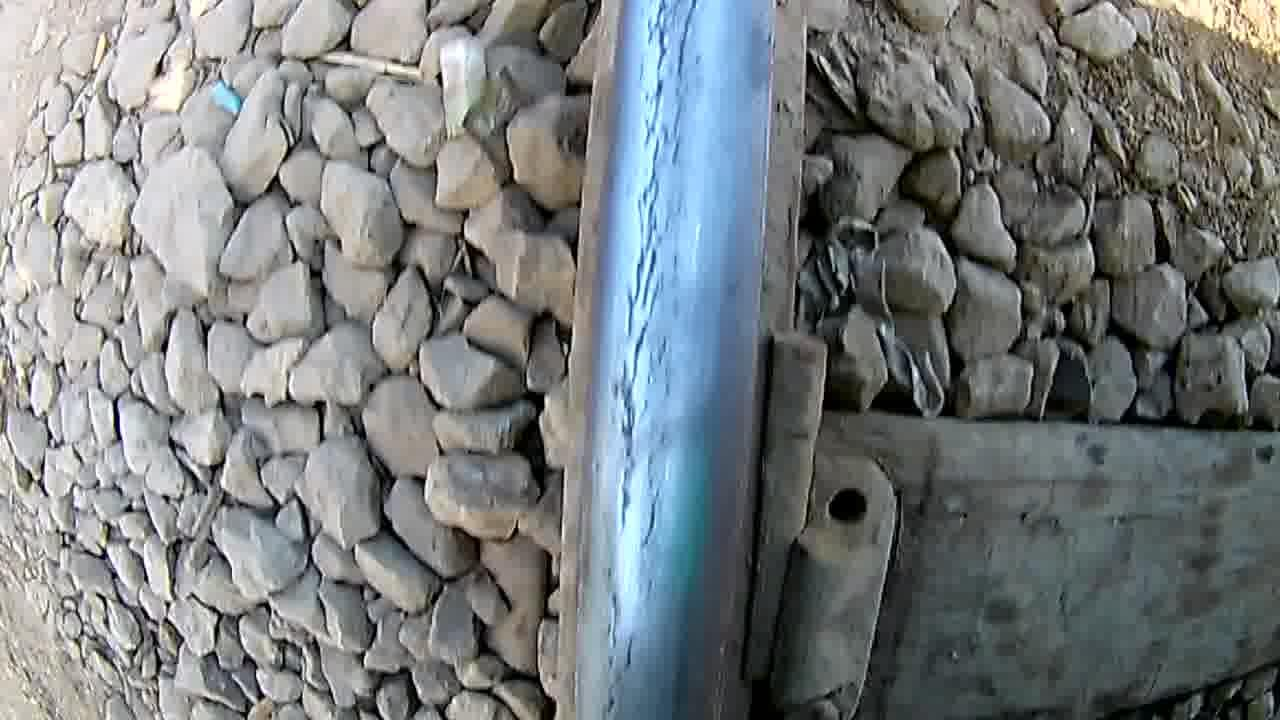normal_track: (600, 0, 700, 720)
